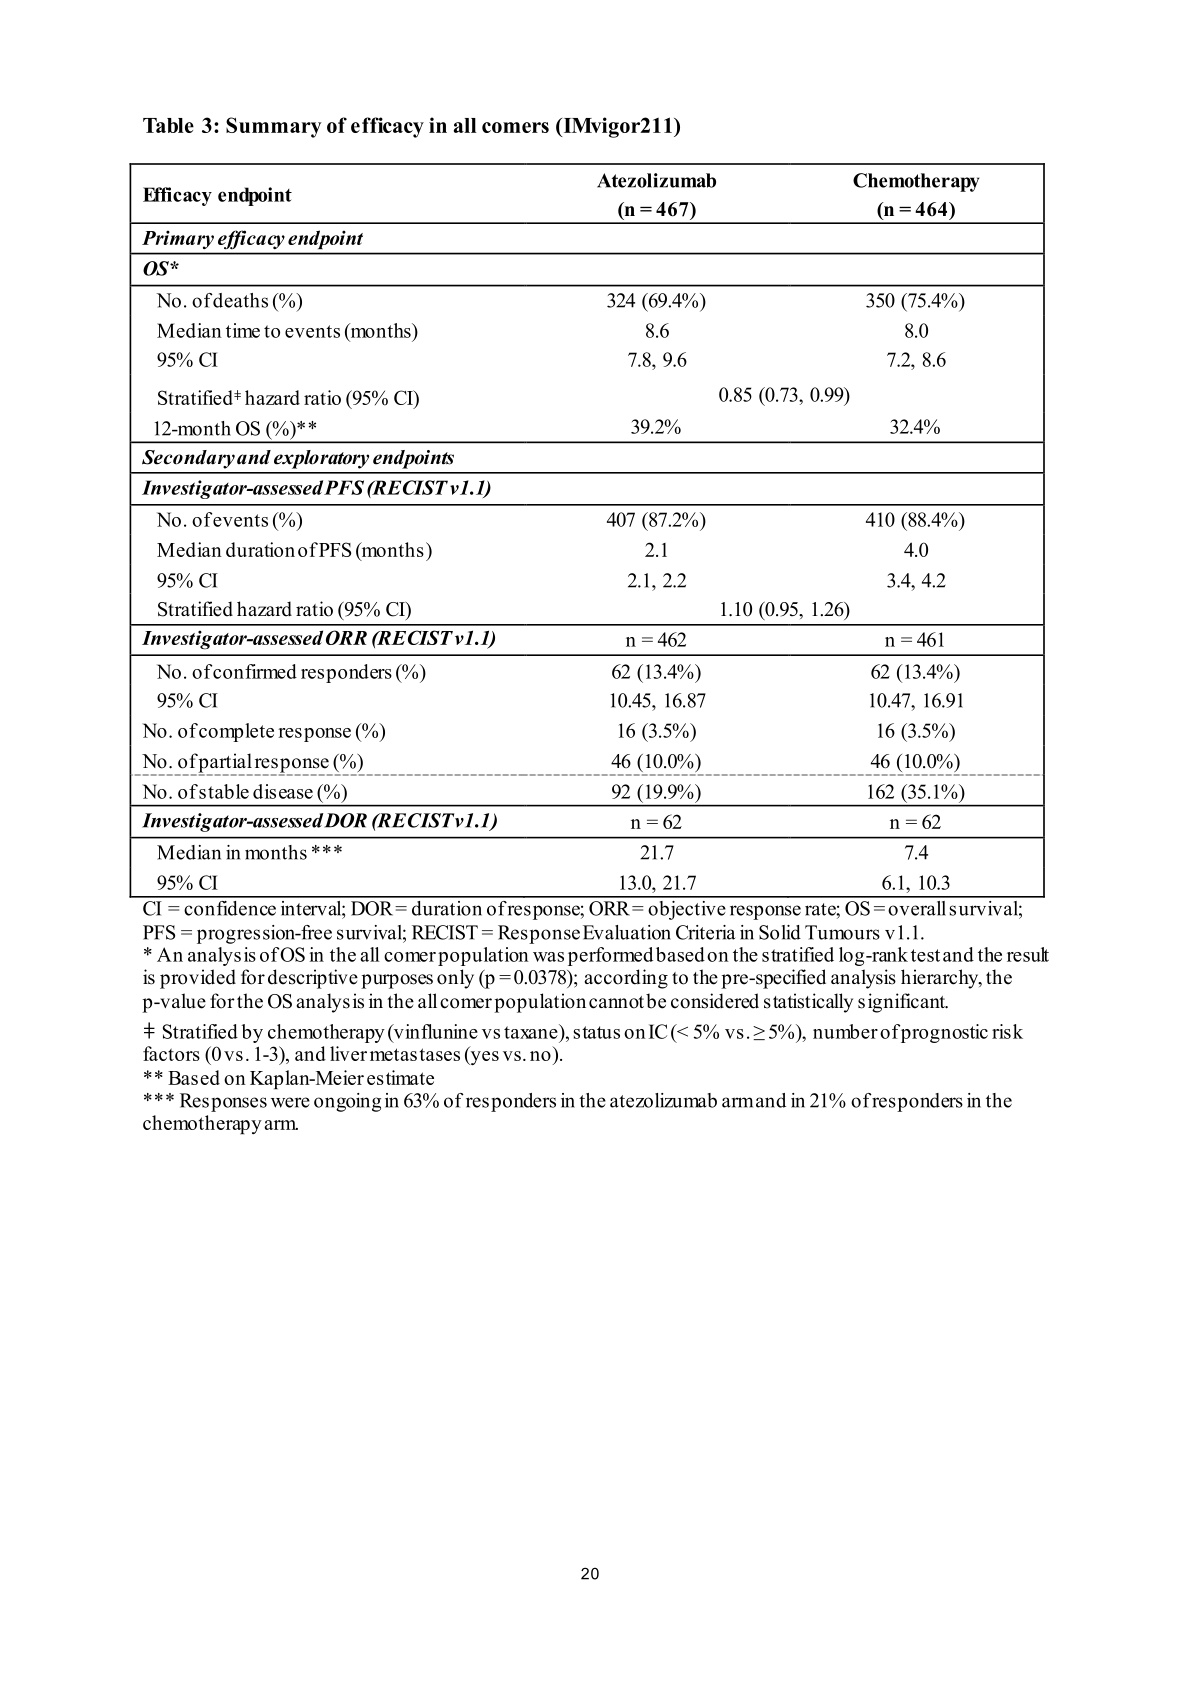partial_lined_merged_cells: (129, 161, 1047, 899)
